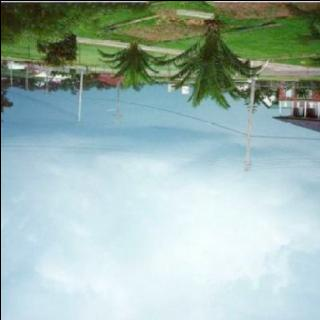Stratocumulus: (0, 119, 320, 320)
